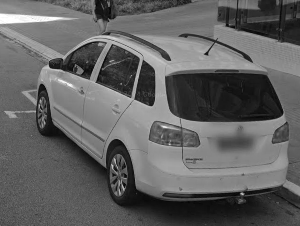car: (36, 33, 290, 209)
